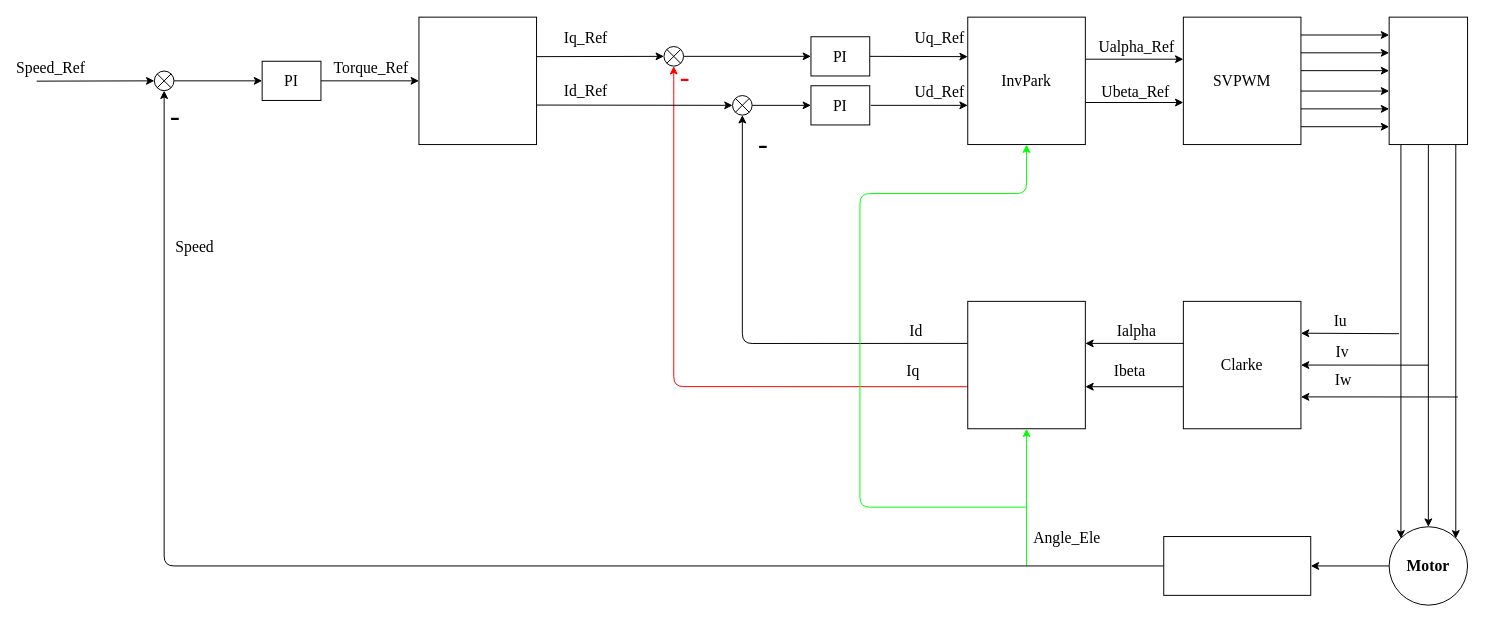
Some shapes in this 1486 by 622 pixel diagram are drawn without their labels. Here are the shapes that lost their labels. From the top down, the box of each, then its label:
(418, 16, 537, 145): MTPA/MTPV
(1388, 16, 1468, 145): 3 phase Inverter
(967, 300, 1085, 429): Park
(1163, 536, 1311, 595): Sensor/Sensorless
